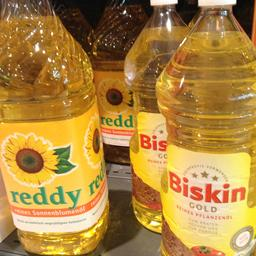oil: (0, 0, 109, 255), (154, 0, 254, 255)
